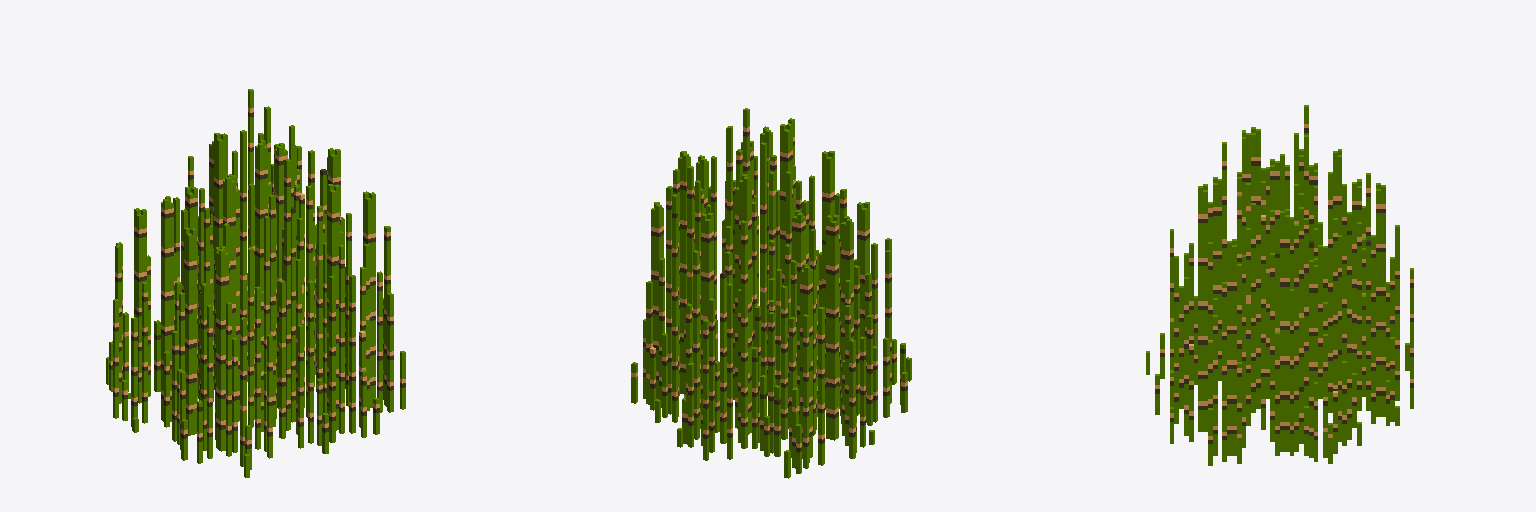
3 views of the same model, side by side, from view 1: azimuth 30°, elevation 25°; view 2: azimuth 150°, elevation 25°; view 3: azimuth 270°, elevation 25° (orthographic).
Parts seen in each view (by area): view 1: object 1; view 2: object 1; view 3: object 1.
Part boxes in pixels (bbox=[...]): object 1: bbox=[106, 89, 405, 477]; object 1: bbox=[631, 108, 911, 478]; object 1: bbox=[1146, 105, 1413, 465].
Bounding box in the file's own units: 5.5 × 7.1 × 5.6.
Materials: 1 (1 with a texture image).